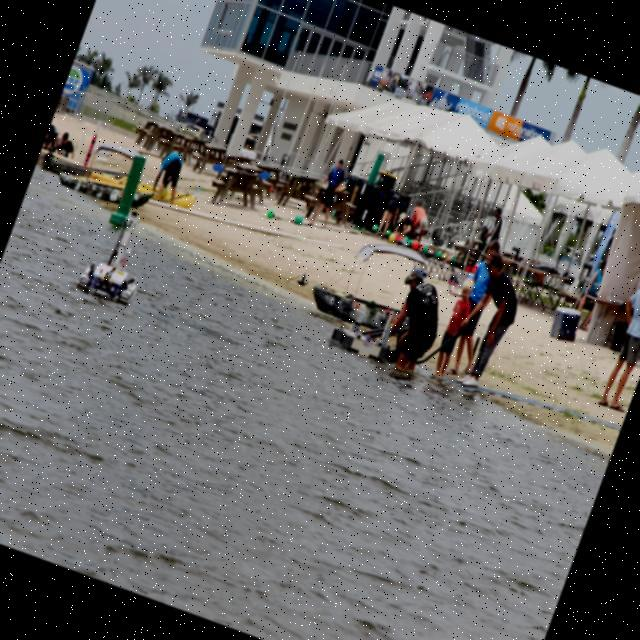buoy: (292, 213, 306, 227), (265, 210, 275, 220)
